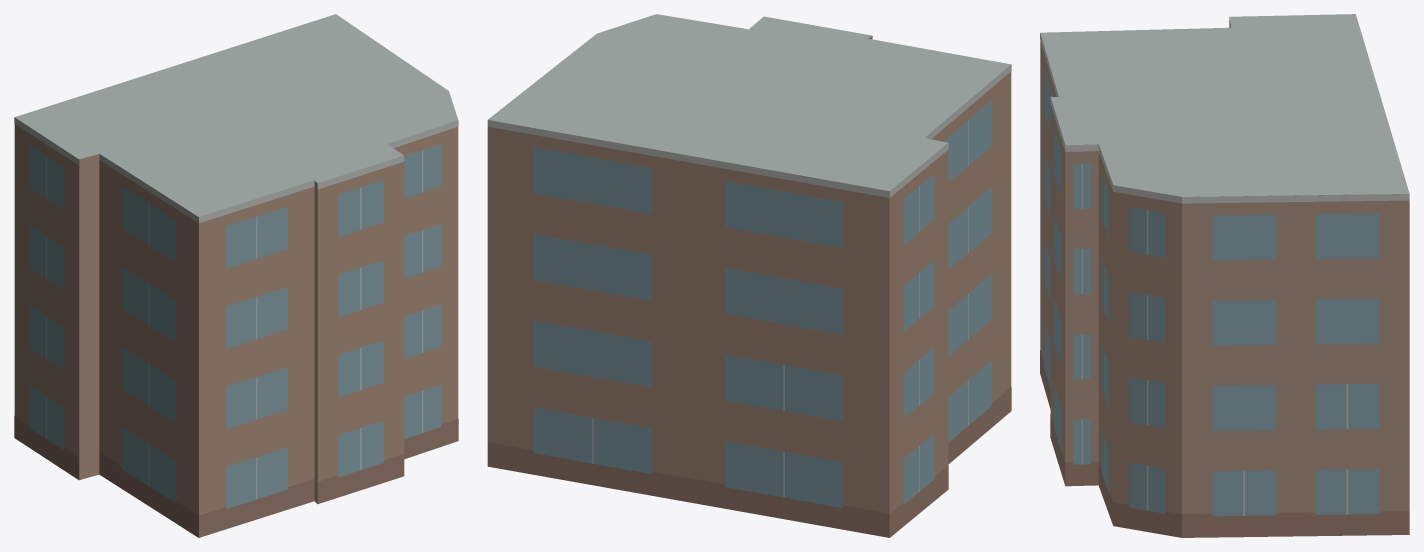
The model's file is survey-upis-33024853.glb.
3 renders of one model, left to right at view 1: azimuth 30°, elevation 25°; view 2: azimuth 150°, elevation 25°; view 3: azimuth 270°, elevation 25°, orthographic. The views are drawn at different scales.
Visible parts, largest first — view 1: survey-upis-33024853.tmp; view 2: survey-upis-33024853.tmp; view 3: survey-upis-33024853.tmp.
Part boxes in pixels (x1,y1,x2,y2): survey-upis-33024853.tmp: (14, 14, 458, 537); survey-upis-33024853.tmp: (487, 14, 1011, 537); survey-upis-33024853.tmp: (1040, 14, 1409, 537).
Bounding box in the file's own units: 14.4 × 12.5 × 12.29.
